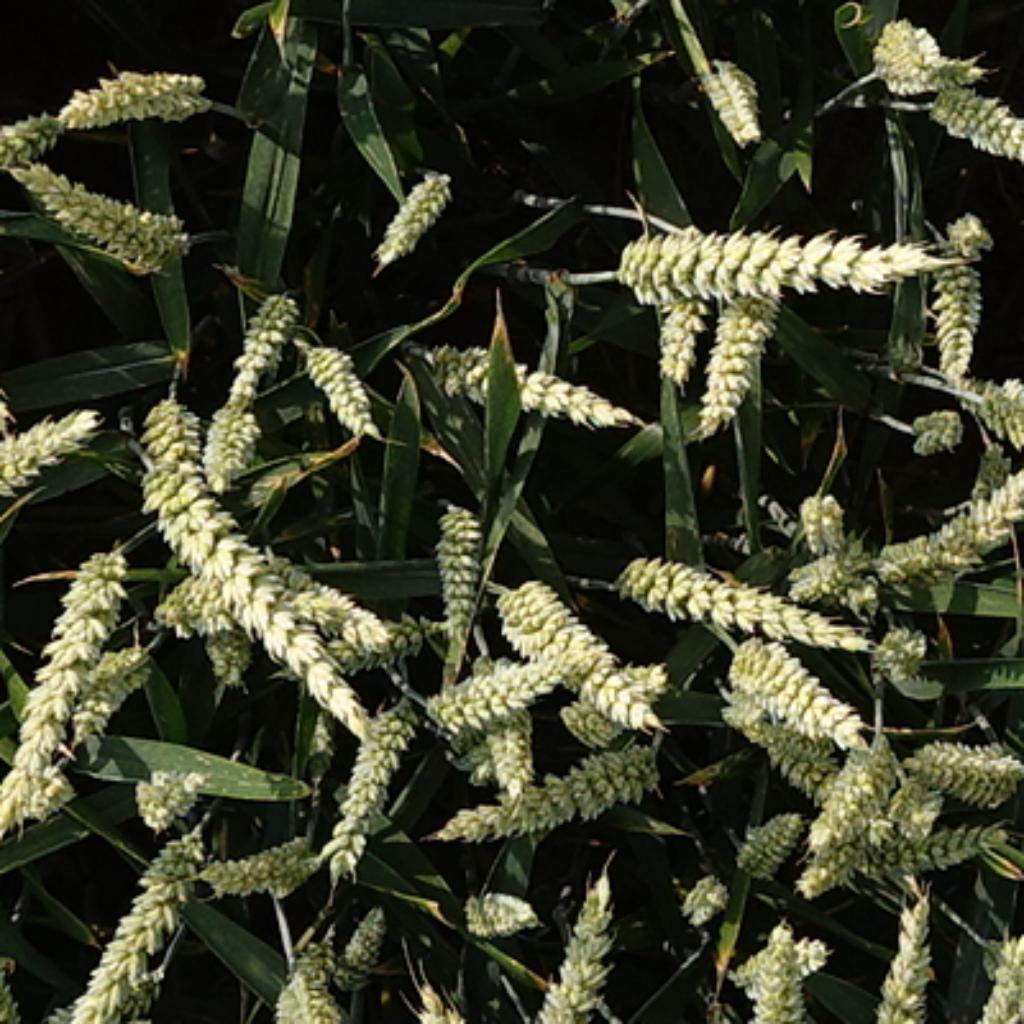0-0: (135, 460, 389, 744), (10, 535, 140, 801), (614, 207, 965, 304), (611, 537, 878, 655), (491, 570, 668, 737), (61, 826, 209, 1018), (430, 734, 665, 852), (2, 141, 191, 267), (798, 734, 926, 890), (880, 448, 1024, 586), (719, 627, 865, 747), (432, 345, 634, 430), (330, 698, 419, 888), (704, 701, 842, 808), (524, 883, 624, 1024), (693, 281, 783, 435), (51, 48, 220, 128), (427, 642, 563, 734), (266, 555, 394, 650), (860, 2, 990, 92), (263, 619, 448, 678), (2, 396, 102, 499), (366, 171, 460, 279), (865, 896, 944, 1024), (558, 663, 670, 750), (199, 819, 325, 896), (148, 545, 250, 640), (61, 645, 158, 744), (222, 279, 302, 399), (921, 238, 988, 377), (422, 506, 491, 640), (901, 739, 1024, 814), (135, 399, 207, 527), (266, 926, 360, 1024), (924, 69, 1024, 161), (957, 353, 1024, 481), (870, 768, 942, 883), (304, 340, 384, 440), (688, 46, 765, 143), (43, 967, 171, 1024), (893, 808, 1006, 872), (716, 934, 834, 995), (476, 696, 542, 803), (199, 394, 266, 496), (775, 537, 867, 606), (752, 919, 811, 1024), (325, 898, 396, 985), (650, 286, 706, 384), (801, 832, 872, 908), (133, 765, 209, 834), (732, 801, 803, 872), (449, 883, 533, 942), (2, 770, 81, 832), (980, 930, 1024, 1020), (867, 614, 931, 675), (906, 399, 972, 458), (204, 627, 258, 696), (791, 481, 847, 545), (1, 109, 68, 162), (675, 872, 732, 931), (972, 432, 1018, 496), (936, 202, 993, 253), (261, 852, 327, 896), (837, 573, 883, 624)
